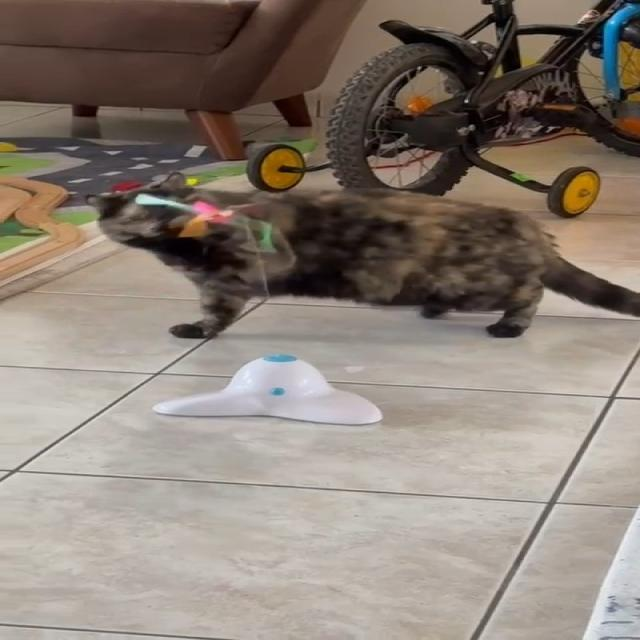authorized: (84, 170, 639, 340)
